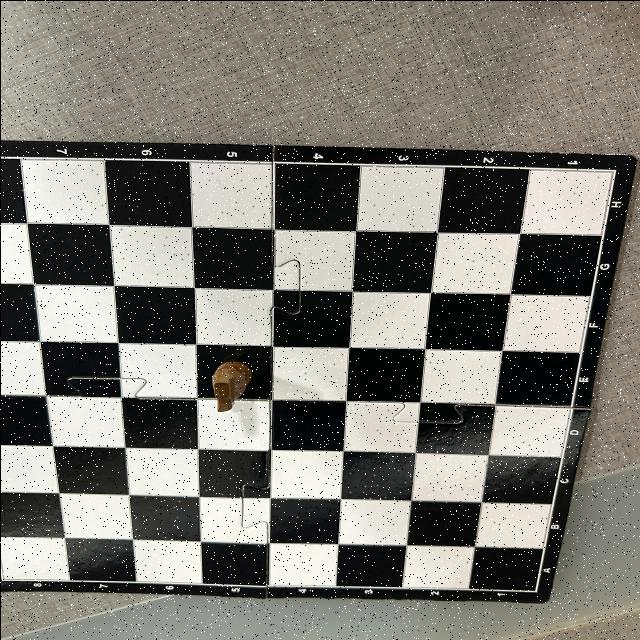Black-Knight: (210, 360, 252, 410)
